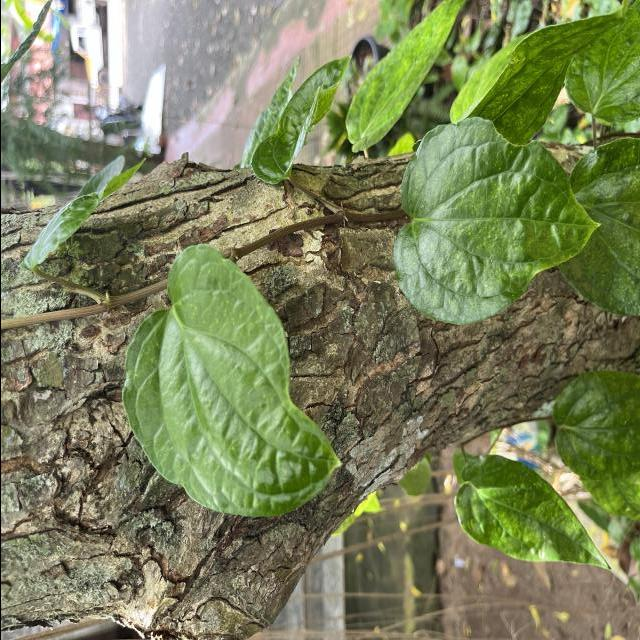Piper betle: (388, 115, 604, 328)
